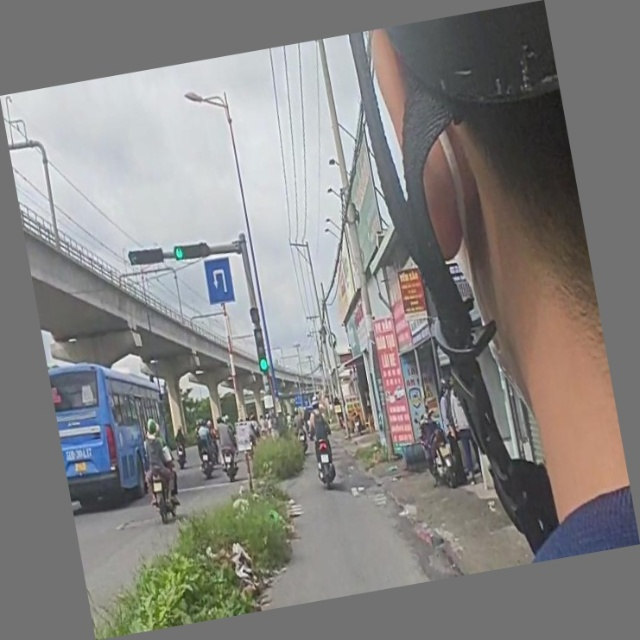I.409: (202, 255, 240, 309)
